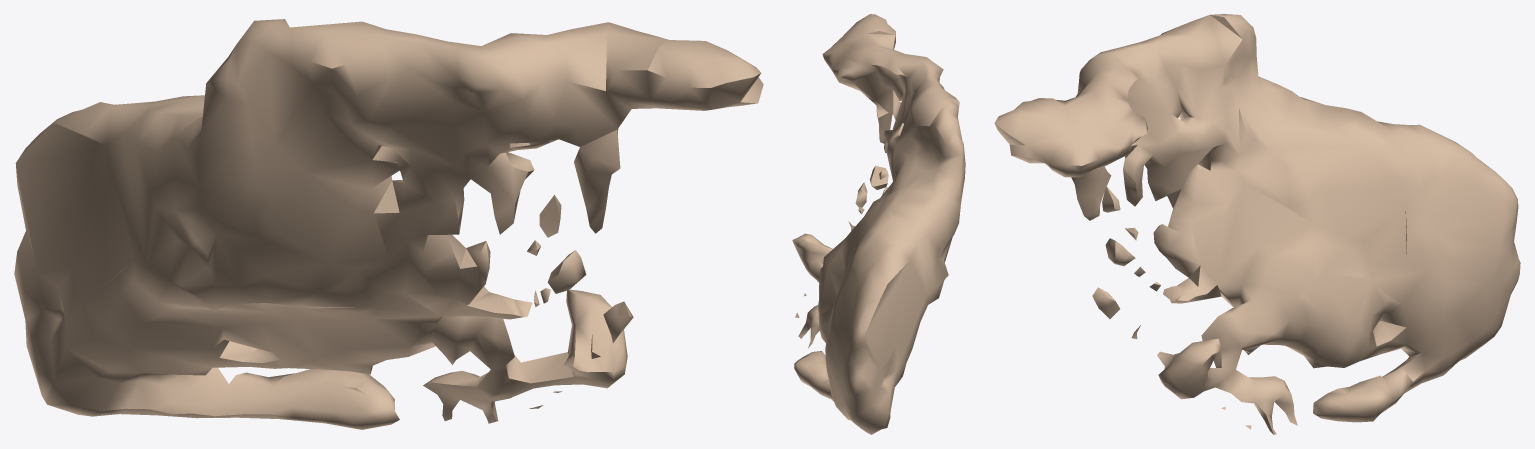
Rendered from spl-319.glb.
3 views of the same model, side by side, from view 1: azimuth 30°, elevation 25°; view 2: azimuth 150°, elevation 25°; view 3: azimuth 270°, elevation 25° (orthographic). The views are drawn at different scales.
Visible parts, largest first — view 1: spl-319; view 2: spl-319; view 3: spl-319.
Part boxes in pixels (<box>): spl-319: <box>14,19,763,429</box>; spl-319: <box>792,14,965,434</box>; spl-319: <box>994,14,1520,434</box>.
Bounding box in the file's own units: 14.28 × 17.09 × 23.08.
